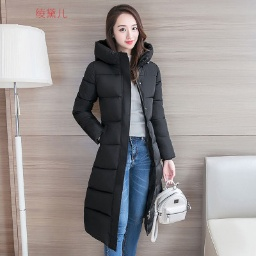face: (103, 3, 149, 56)
